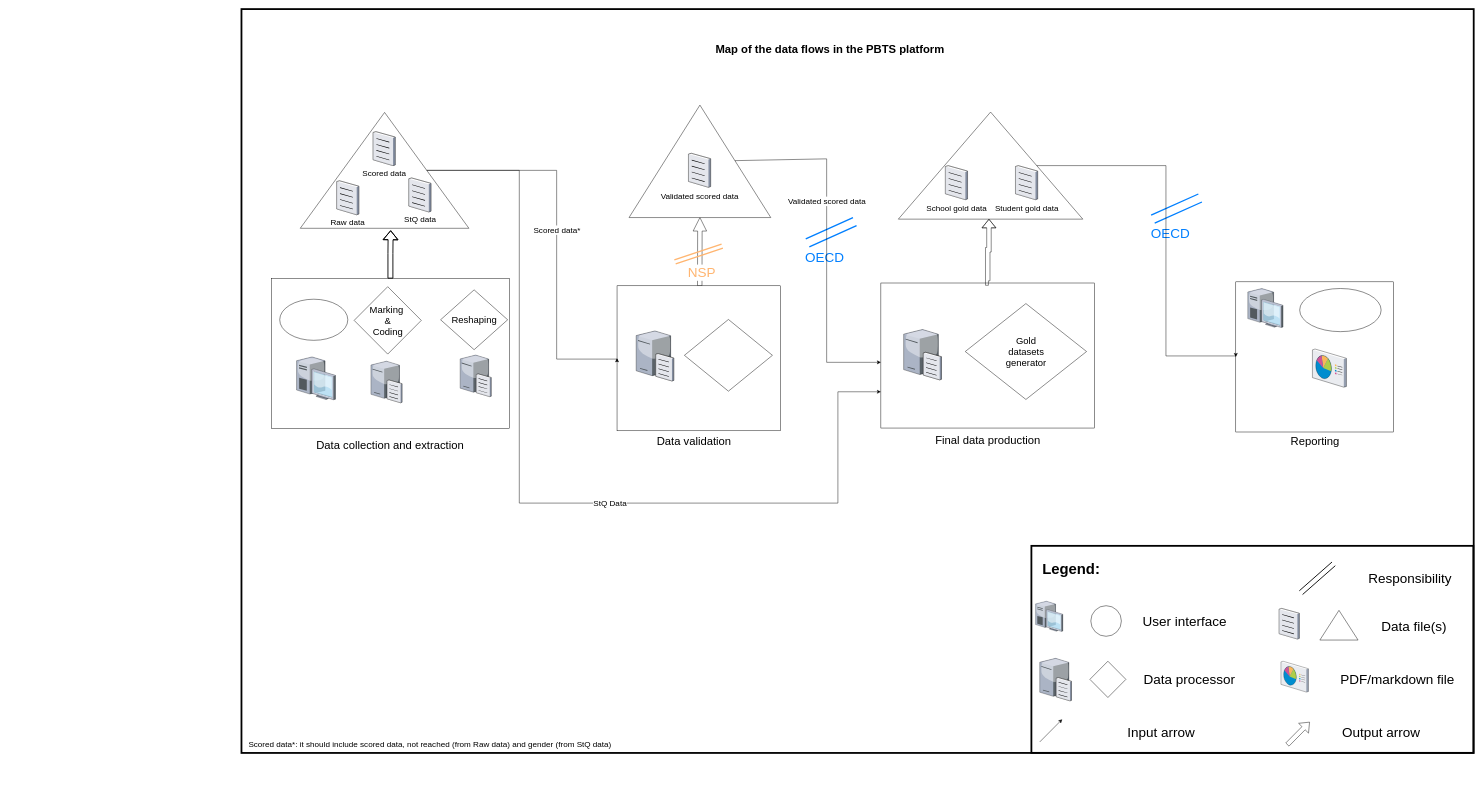
Some shapes in this 1482 by 792 pixel diagram are drawn without their labels. Here are the shapes that lost their labels. From the top down, the centre of each, then its label:
point 313,319: Testing platform
point 1340,310: Digital dashboard
point 728,355: Validation dashboard & Diagnostics
point 1329,368: School report
